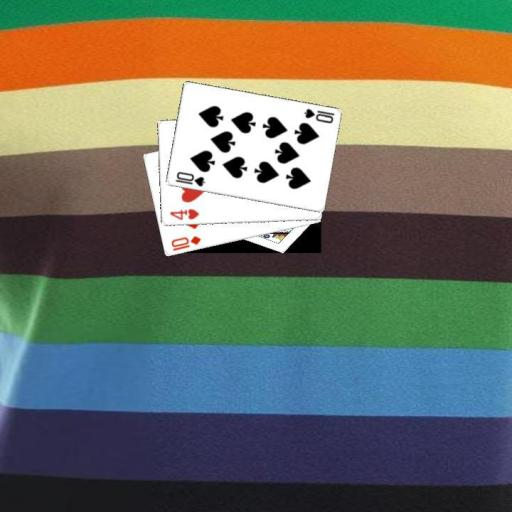10D: (168, 234, 202, 253)
10S: (301, 105, 336, 125), (172, 169, 206, 189)
4H: (166, 205, 200, 222)
